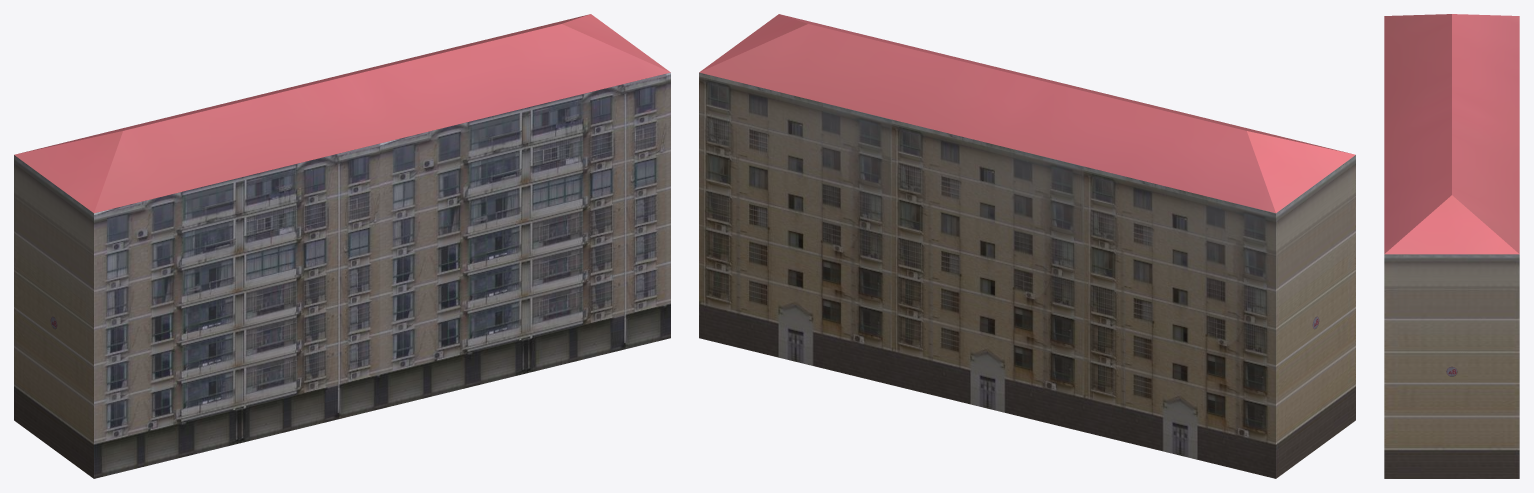
The model's file is jsgy_a8.gltf.
3 views of the same model, side by side, from view 1: azimuth 30°, elevation 25°; view 2: azimuth 150°, elevation 25°; view 3: azimuth 270°, elevation 25° (orthographic). The views are drawn at different scales.
Parts seen in each view (by area): view 1: Model#12; view 2: Model#12; view 3: Model#12.
Boxes of the visible parts, left/top/right/bottom form: Model#12: left=14, top=14, right=670, bottom=478; Model#12: left=699, top=14, right=1355, bottom=478; Model#12: left=1384, top=14, right=1519, bottom=478.
Size of the model in its own units: 0.05 by 0.025 by 0.012.
4 materials, 4 textured.
